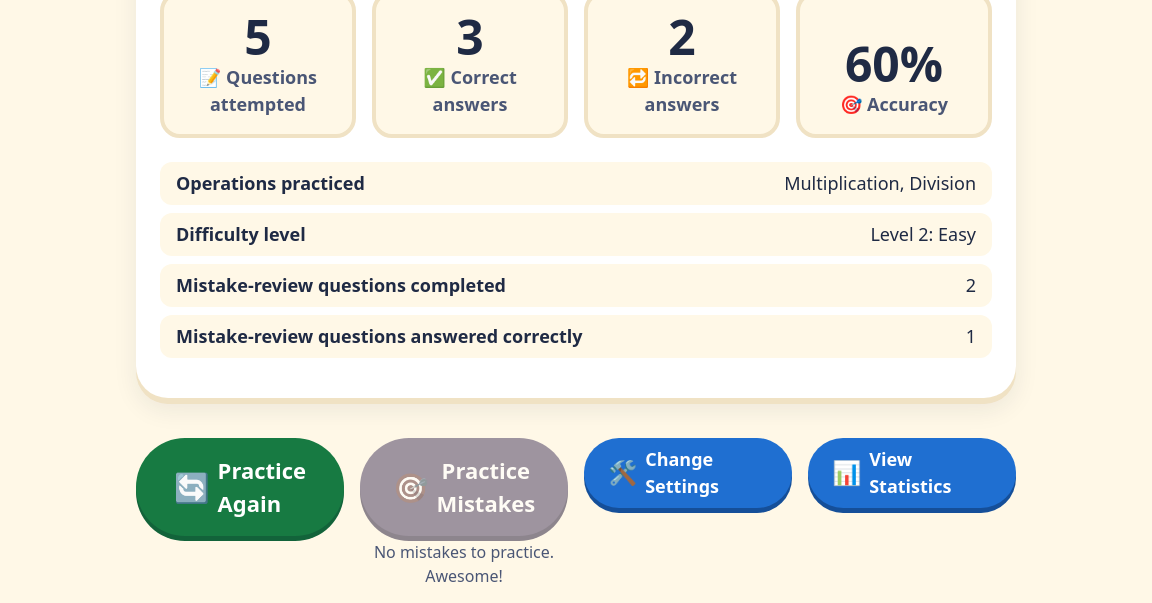
Test: SessionSummaryPage › Change Settings opens setup with the same options filled in
The image size is (1152, 603).
(page scrolled)
Click the link "🛠️ Change Settings" at {"x": 688, "y": 473}, box [584,438,792,508]
(page scrolled)
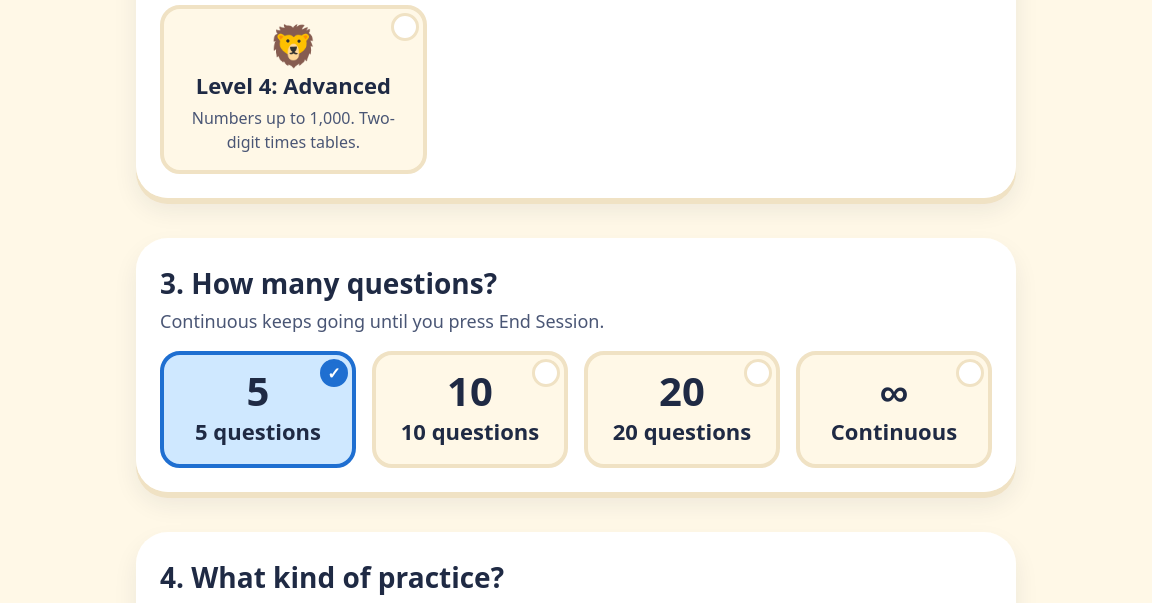
Expected: the radio button labelled "5 questions" is checked, [160,351,356,468]
